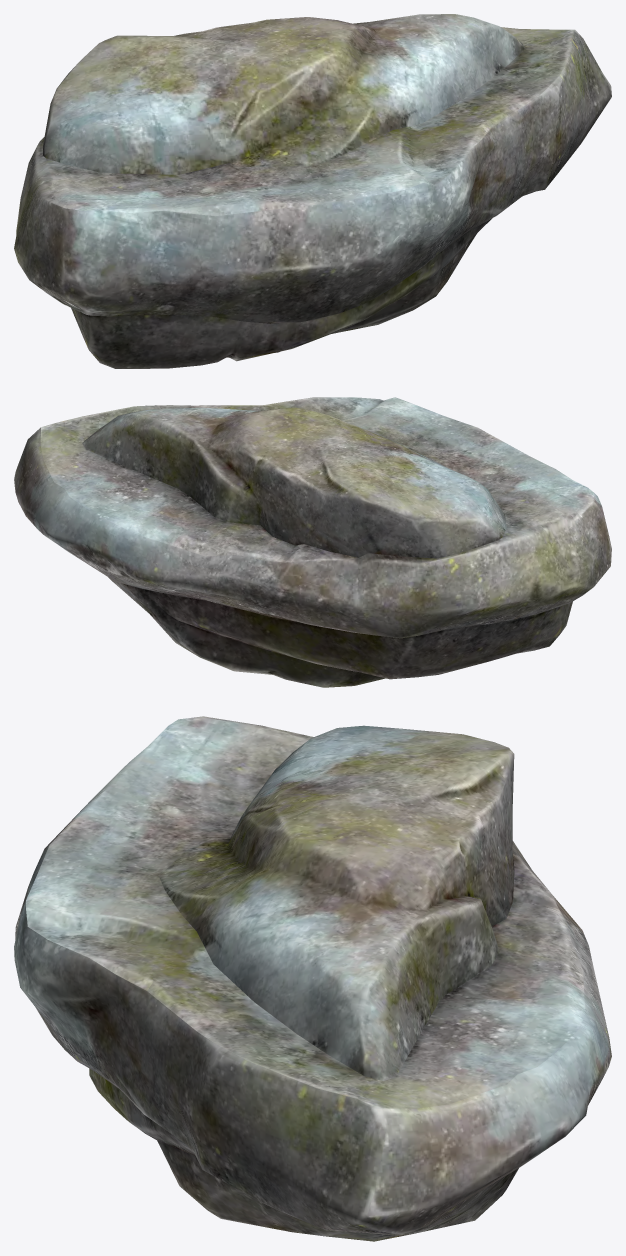
The picture shows the model from 3 angles, top to bottom: view 1: azimuth 30°, elevation 25°; view 2: azimuth 150°, elevation 25°; view 3: azimuth 270°, elevation 25°; orthographic projection. The views are drawn at different scales.
Visible parts, largest first — view 1: SM_Mining_Node_Medium_Silver_03_LOD0; view 2: SM_Mining_Node_Medium_Silver_03_LOD0; view 3: SM_Mining_Node_Medium_Silver_03_LOD0.
Boxes of the visible parts, x1,y1,x2,y2 form: SM_Mining_Node_Medium_Silver_03_LOD0: (14,14,611,368); SM_Mining_Node_Medium_Silver_03_LOD0: (14,397,611,687); SM_Mining_Node_Medium_Silver_03_LOD0: (14,716,611,1241).
Bounding box in the file's own units: 3.55 × 1.49 × 2.16.
